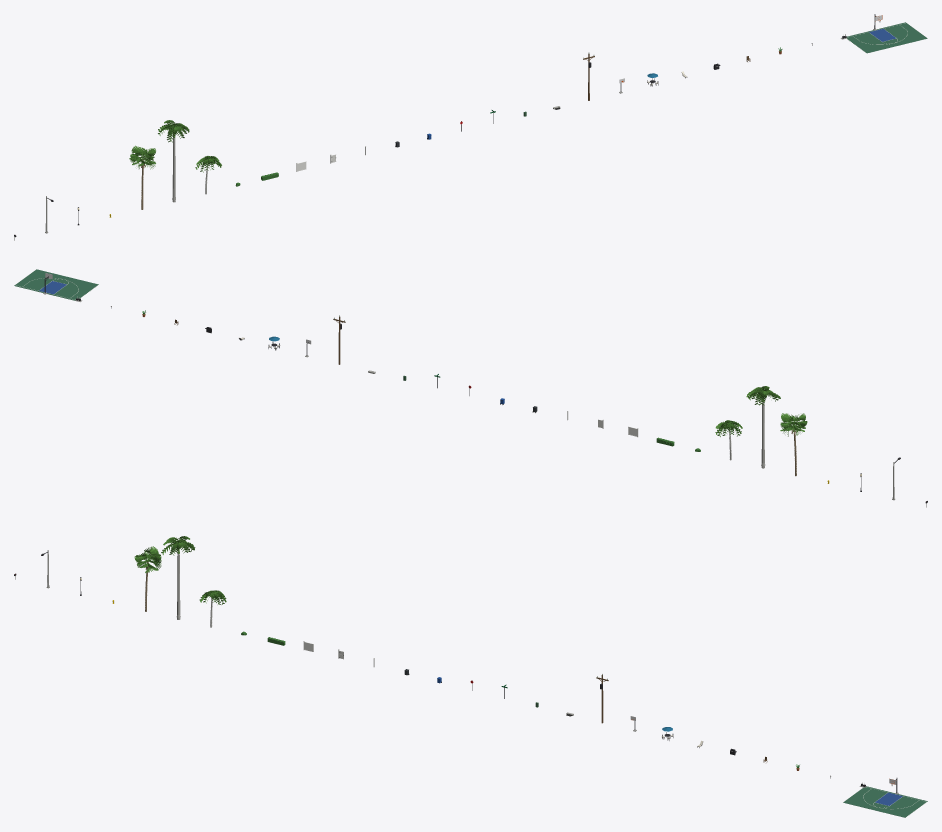
File: StreetProps.glb
3 views of the same model, one above another, from view 1: azimuth 30°, elevation 25°; view 2: azimuth 150°, elevation 25°; view 3: azimuth 330°, elevation 25° (orthographic). The views are drawn at different scales.
Parts seen in each view (by area): view 1: HalfCourt_Court; view 2: HalfCourt_Court; view 3: HalfCourt_Court.
Part boxes in pixels (x1,y1,x2,y2): HalfCourt_Court: (847, 22, 927, 53); HalfCourt_Court: (14, 269, 98, 300); HalfCourt_Court: (843, 786, 927, 817).
Bounding box in the file's own units: 839 × 70.14 × 48.89.
